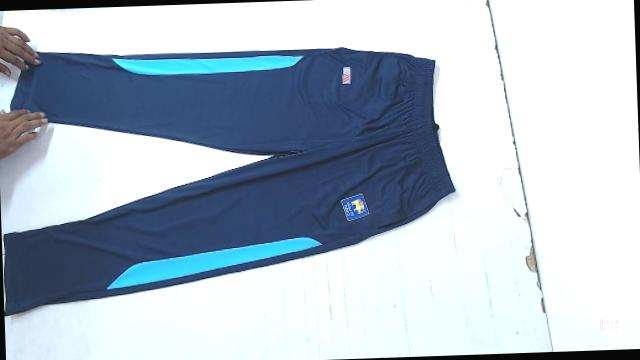new-garment: (4, 48, 455, 314)
